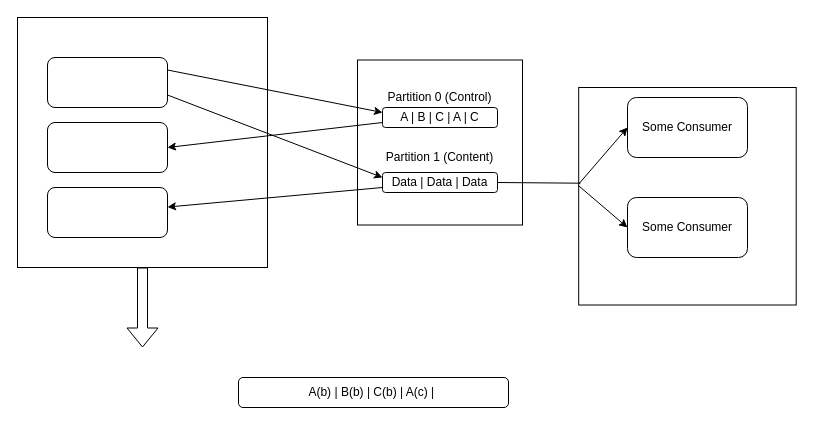
Some shapes in this 814 by 425 pixel diagram are drawn without their labels. The shapes that lost their labels are listed below. From the top down, each one's centre as x and y in pixels, then its label:
At point 107,82: "Producer".
At point 107,147: "Control Consumer".
At point 107,212: "Content Consumer".
